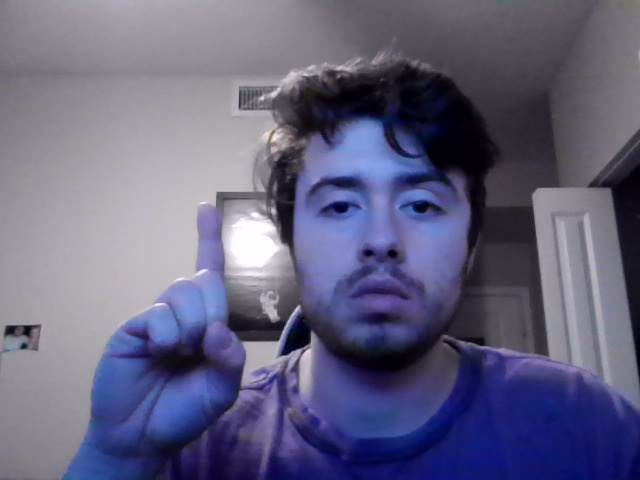d: (90, 201, 247, 459)
